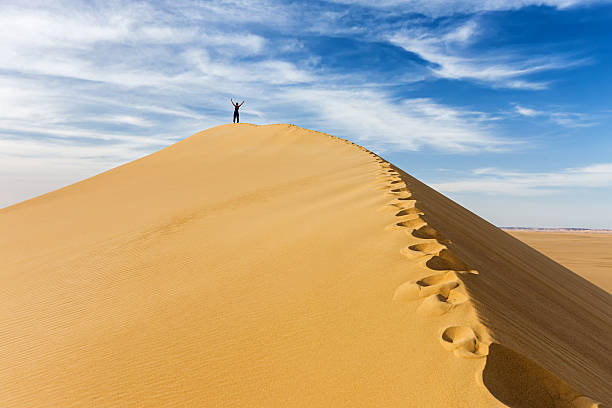human_footprint: (379, 166, 470, 315), (393, 270, 467, 315), (394, 271, 466, 314), (400, 239, 476, 273), (393, 271, 458, 301), (440, 326, 487, 357), (417, 289, 467, 315), (387, 200, 425, 232), (426, 248, 470, 270), (409, 217, 447, 242), (400, 239, 446, 257), (411, 224, 447, 242), (387, 214, 425, 229), (382, 199, 416, 215), (377, 174, 402, 187), (395, 206, 423, 216), (385, 189, 413, 199), (378, 179, 402, 190), (390, 186, 411, 194), (388, 177, 404, 185)
